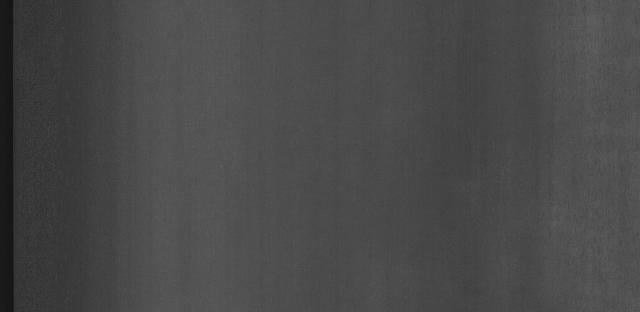silk_spot: (526, 78, 636, 268)
